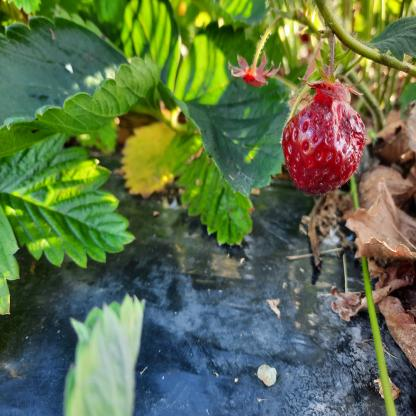ripe: (280, 87, 367, 184)
